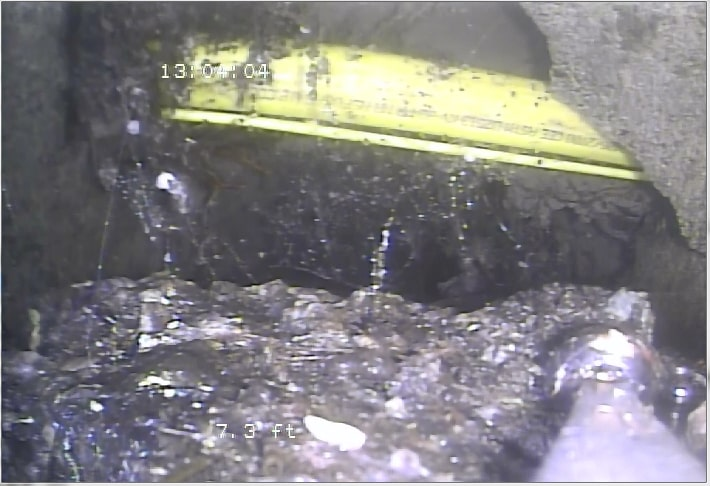cb: (106, 23, 657, 189)
